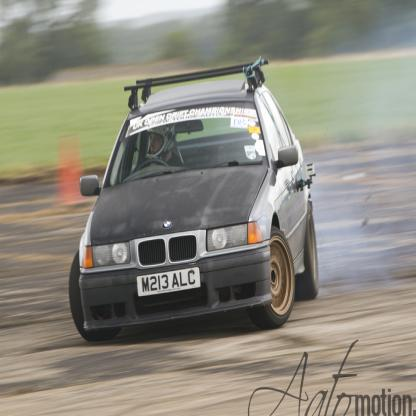Helmet: (146, 117, 177, 162)
